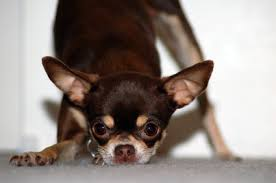chihuahua: (21, 1, 238, 172)
